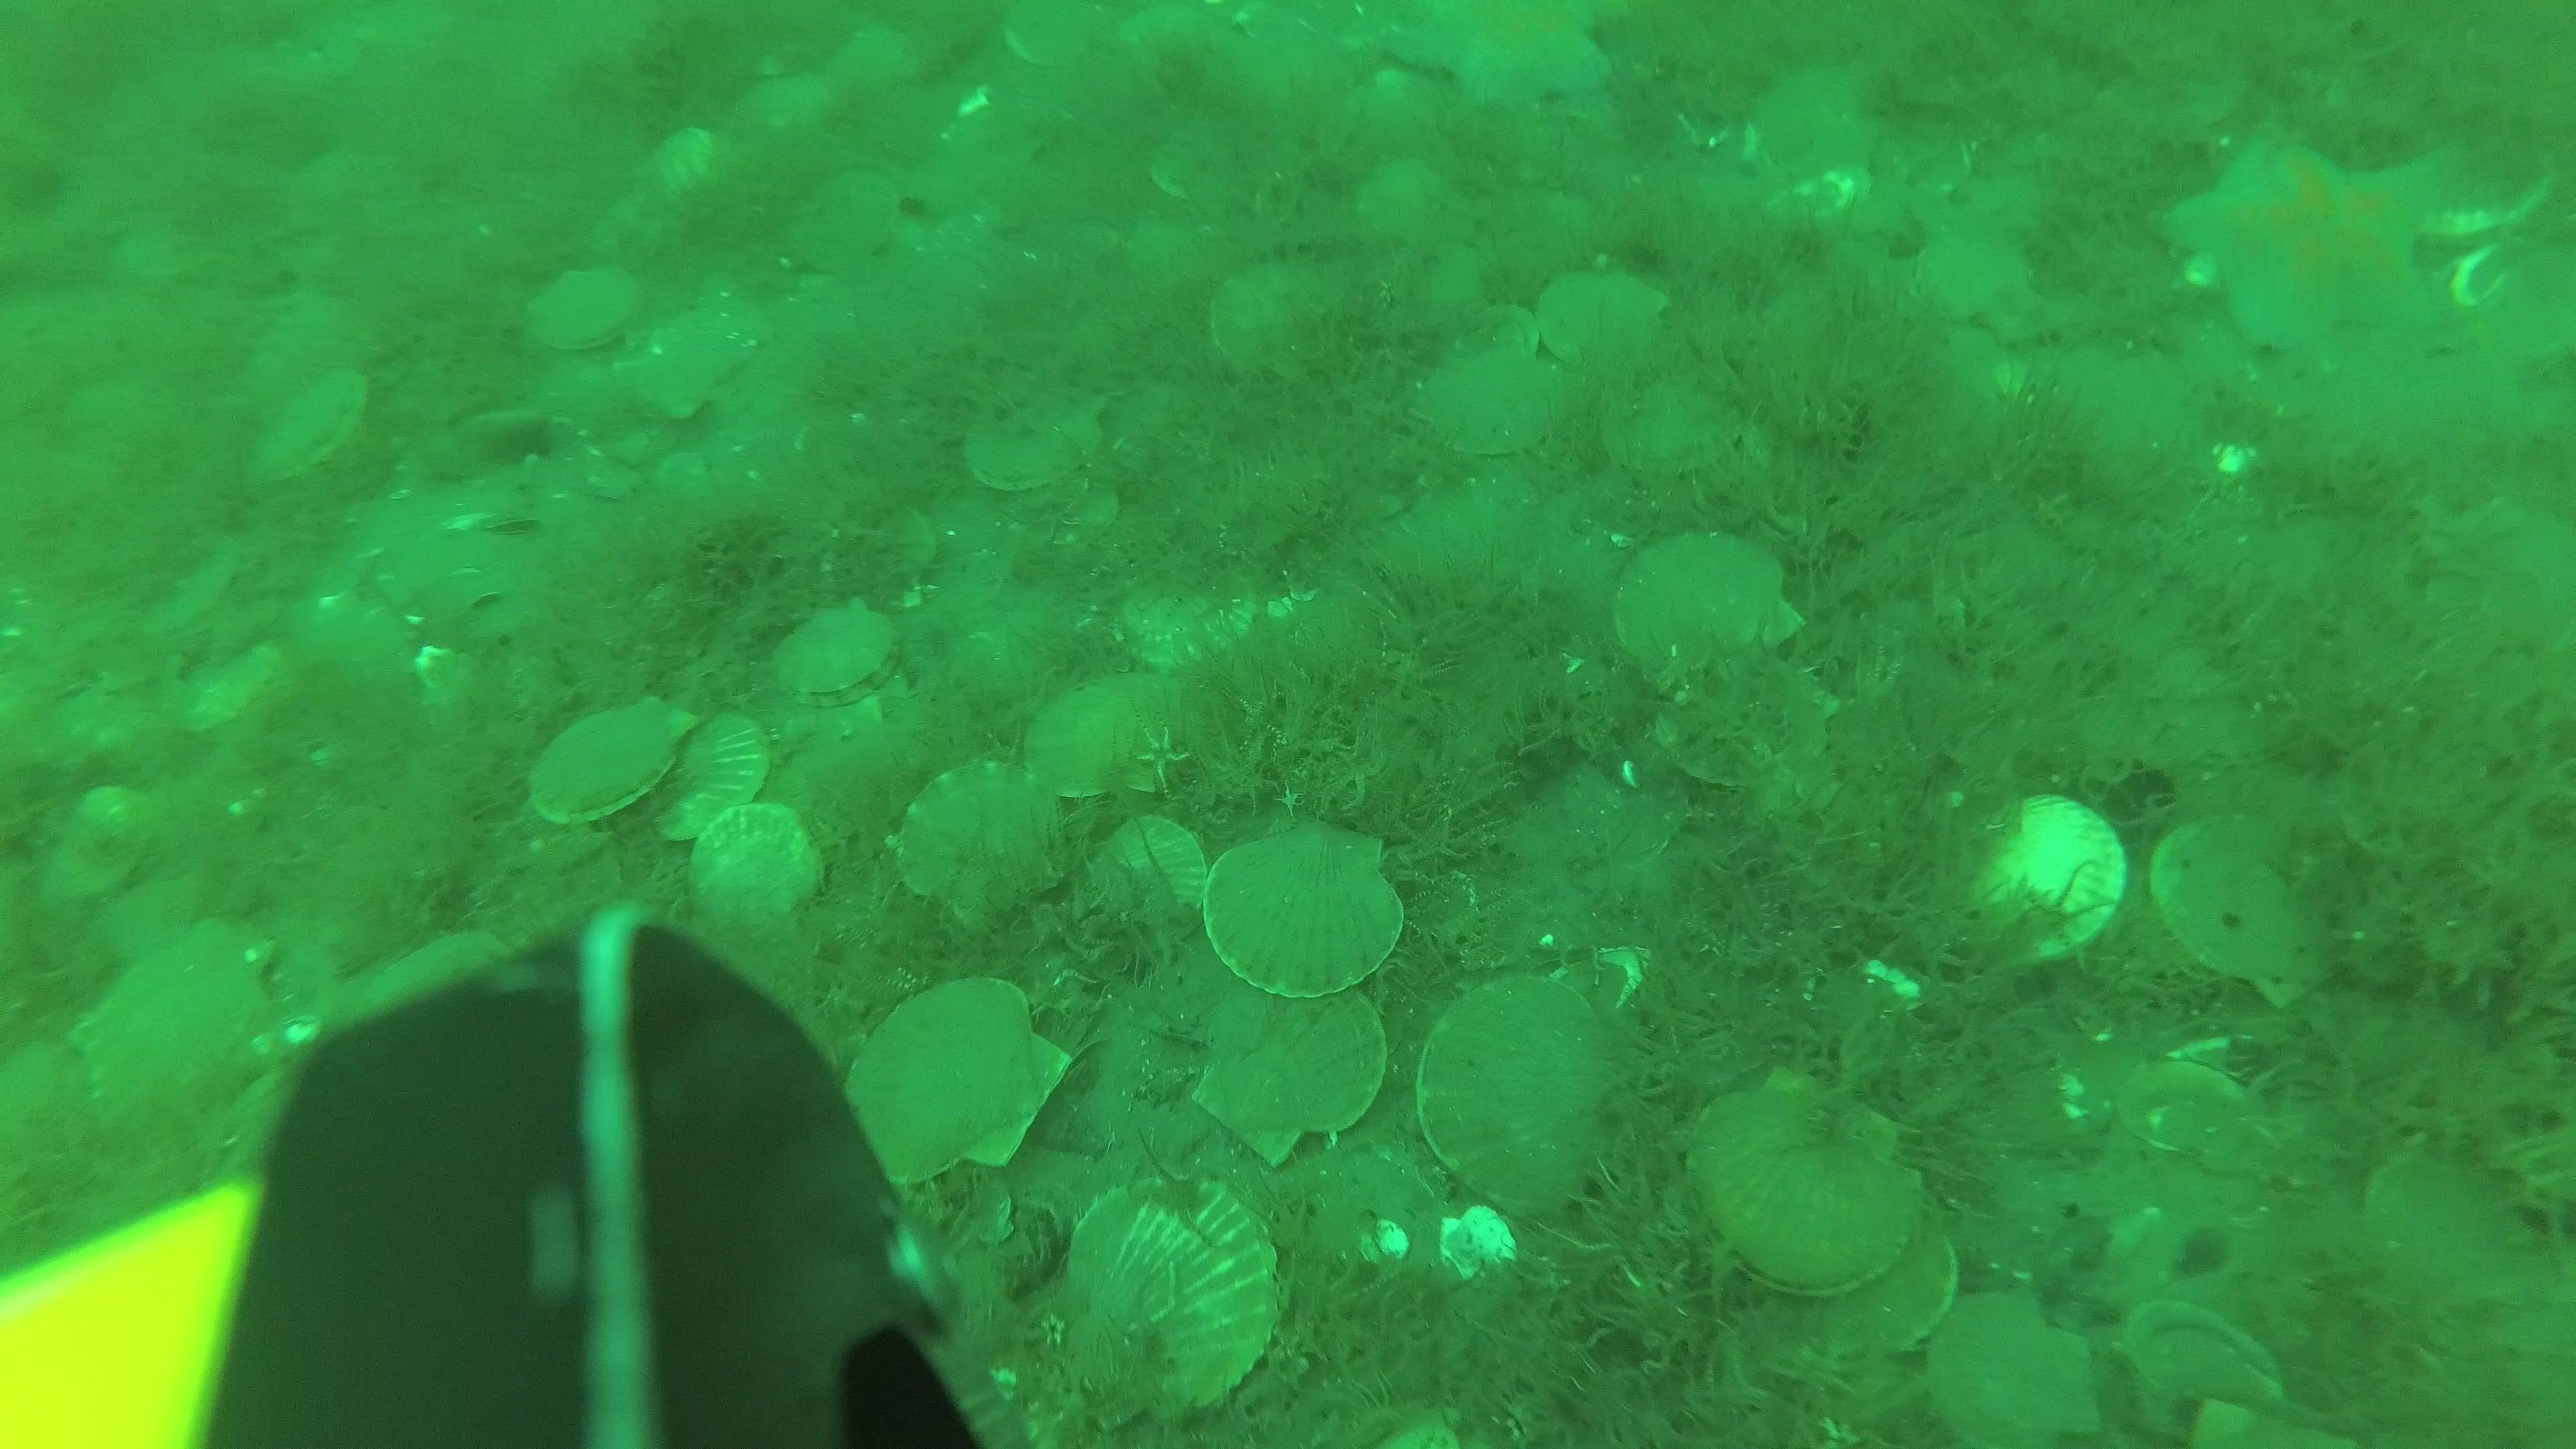scallop: (1686, 1056, 1934, 1299), (1412, 962, 1629, 1226), (1062, 1178, 1299, 1415), (842, 975, 1076, 1194), (2151, 800, 2353, 1008), (73, 922, 285, 1120), (1201, 807, 1408, 1003), (1943, 770, 2128, 985), (1198, 975, 1398, 1171), (2360, 1132, 2544, 1323), (886, 755, 1074, 927), (1608, 525, 1806, 679), (2026, 333, 2213, 488), (1923, 1281, 2093, 1449), (1651, 663, 1851, 787), (522, 694, 704, 828), (1017, 669, 1194, 803), (1796, 1224, 1964, 1361), (686, 796, 830, 941), (1410, 334, 1575, 460), (947, 389, 1122, 499), (237, 361, 375, 490), (628, 303, 775, 423), (660, 699, 777, 849), (1088, 809, 1217, 943), (1605, 370, 1752, 487), (2116, 1046, 2261, 1161), (46, 780, 161, 920), (2415, 147, 2576, 246), (1111, 573, 1269, 672), (1529, 264, 1672, 372), (1210, 258, 1330, 386), (1746, 62, 1870, 180), (777, 598, 899, 711), (1909, 225, 2042, 327), (520, 258, 648, 357), (791, 165, 899, 281), (1352, 159, 1461, 241), (1122, 212, 1228, 294), (1143, 127, 1246, 207), (994, 0, 1104, 74), (648, 124, 729, 216)
starfish: (2158, 113, 2457, 363), (1378, 4, 1628, 117)
